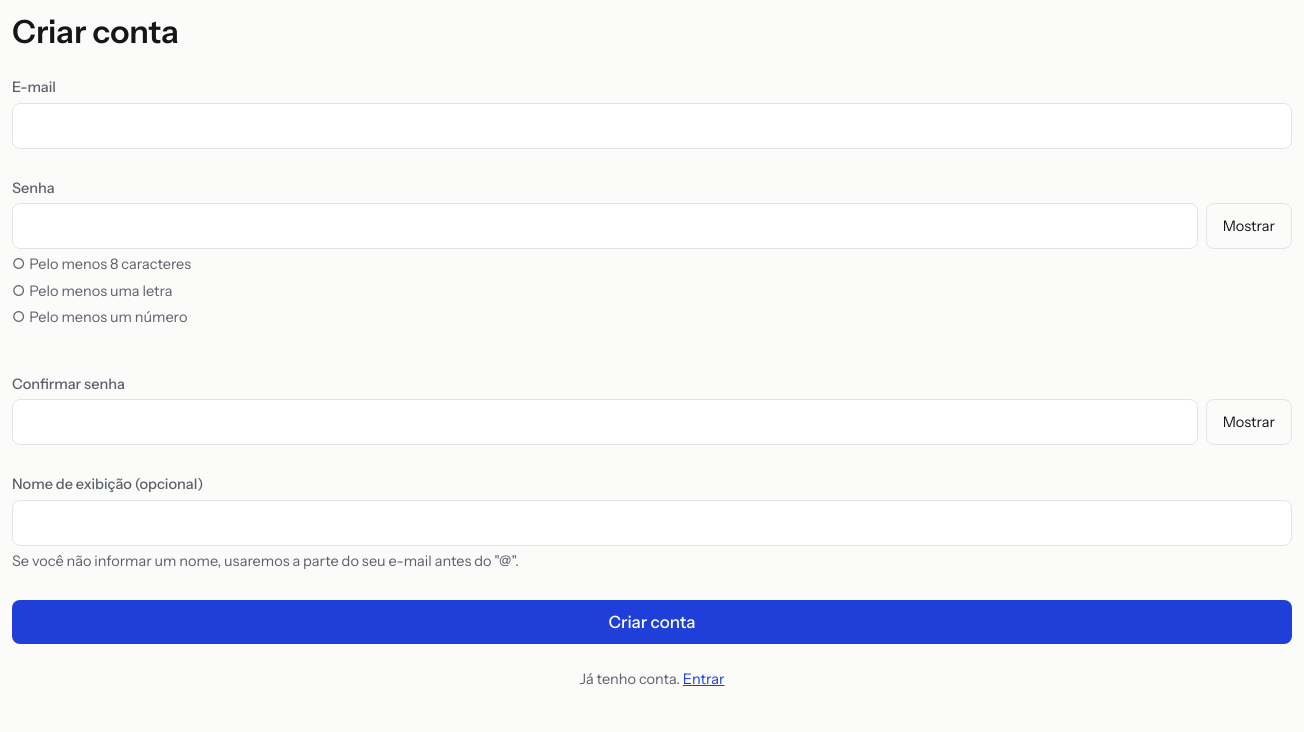
RegisterComponent (FE-08) › envio inválido não desabilita o botão, mostra os erros e foca o primeiro campo inválido (CA-02)
The image size is (1304, 732).
Step 1. Click the button "Criar conta" → (652, 622), box top-left (12, 600), bottom-right (1292, 644)
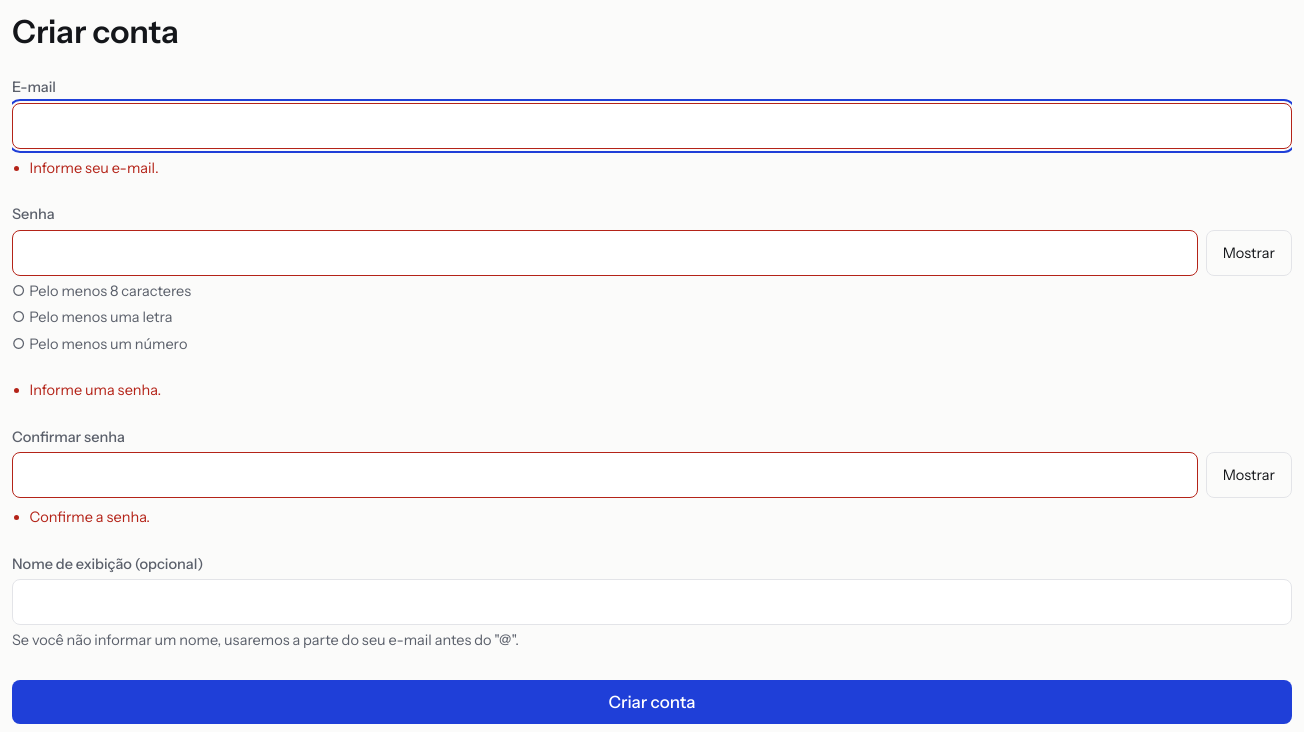
Expected: the button "Criar conta" is enabled, top-left (12, 680), bottom-right (1292, 724)
Now the list item "Informe seu e-mail." is shown, box top-left (30, 158), bottom-right (159, 176)
Now the list item "Informe uma senha." is shown, box top-left (30, 381), bottom-right (161, 399)
